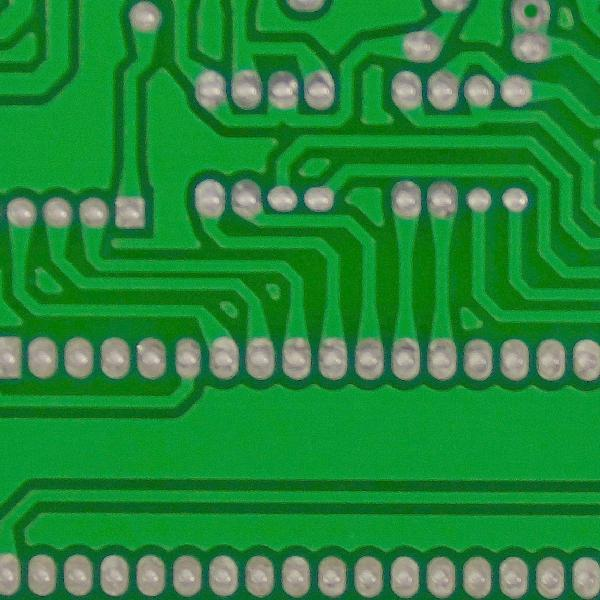missing_hole: (510, 1, 553, 36)
